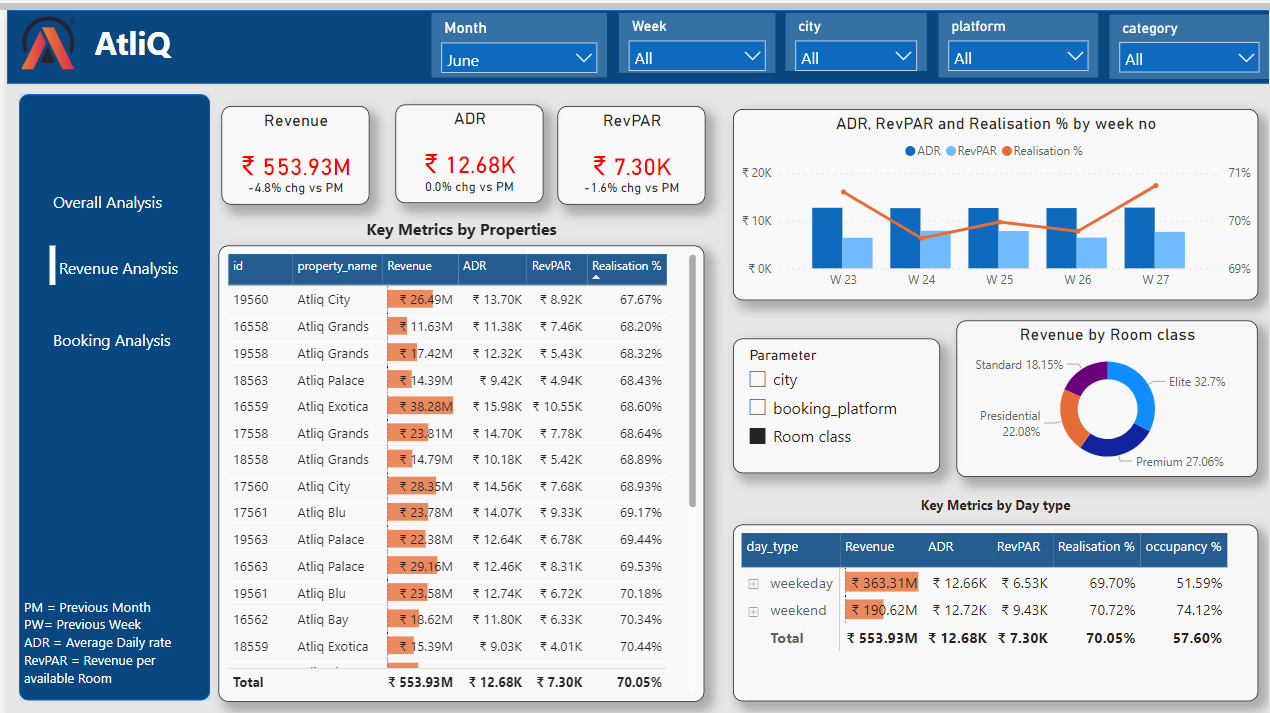

This screenshot's page, from the dashboard's own definition file:
{"tool":"powerbi","page":{"name":"Revenue","canvas":[1280,720],"ordinal":1},"visuals":[{"type":"shape","box":[0,0,1282.6,74.7],"z":0},{"type":"image","box":[0,0,84.7,65.5],"z":1000},{"type":"textbox","box":[84.1,6.5,123,58.2],"z":2000},{"type":"shape","box":[12.7,85.8,193.9,615.1],"z":3000},{"type":"shape","box":[7.7,174,77,40],"z":4000},{"type":"actionButton","box":[42.4,163.7,146.4,59.7],"z":5000},{"type":"shape","box":[8,239,77,40],"z":6000},{"type":"actionButton","box":[42.4,231.1,146.4,59.7],"z":7000},{"type":"shape","box":[7,314,77,40],"z":8000},{"type":"actionButton","box":[42.1,304,146.4,59.7],"z":9000},{"type":"lineClusteredColumnComboChart","fields":{"Category":["dim_date.week no"],"Y":["Key measures.ADR","Key measures.RevPAR"],"Y2":["Key measures.Realisation %"]},"box":[735.9,100.1,532.5,193.9],"z":10000},{"type":"donutChart","fields":{"Category":["dim_rooms.room_class"],"Y":["Key measures.Revenue"]},"box":[963.2,314.7,305.2,158.9],"z":11000},{"type":"tableEx","fields":{"Values":["dim_hotels.property_id","dim_hotels.property_name","Key measures.Revenue","Key measures.ADR","Key measures.RevPAR","Key measures.Realisation %"]},"box":[214.6,238.4,492.7,462.5],"z":12000},{"type":"card","title":"Revenue","fields":{"Values":["Key measures.Revenue"]},"box":[217.7,97.1,150,100],"z":13000},{"type":"card","fields":{"Values":["Key measures.revenue label"]},"box":[217.7,163.7,149.4,33.4],"z":14000},{"type":"card","title":"ADR","fields":{"Values":["Key measures.ADR"]},"box":[394.1,96.5,150,100],"z":15000},{"type":"card","fields":{"Values":["Key measures.ADR LABEL"]},"box":[394.1,163.1,149.4,33.4],"z":16000},{"type":"slicer","fields":{"Values":["dim_date.mmm-yy"]},"box":[430.7,3.7,178,65.2],"z":17000},{"type":"slicer","fields":{"Values":["dim_date.week no"]},"box":[619.9,3.7,158.9,60.4],"z":18000},{"type":"slicer","fields":{"Values":["dim_hotels.city"]},"box":[789.9,3.7,143,58.8],"z":19000},{"type":"slicer","fields":{"Values":["fact_bookings.booking_platform"]},"box":[944.1,3.7,162.1,65.2],"z":20000},{"type":"slicer","fields":{"Values":["dim_hotels.category"]},"box":[1117.4,4.8,162.1,65.2],"z":21000},{"type":"card","title":"RevPAR","fields":{"Values":["Key measures.RevPAR"]},"box":[557.7,97,150,100],"z":22000},{"type":"card","fields":{"Values":["Key measures.REVPAR LABEL"]},"box":[557.7,163.6,149.4,33.4],"z":23000},{"type":"pivotTable","fields":{"Rows":["dim_date.day_type","dim_hotels.category"],"Values":["Key measures.Revenue","Key measures.ADR","Key measures.RevPAR","Key measures.Realisation %","Key measures.occupancy %"]},"box":[735.9,521.3,532.5,179.6],"z":24000},{"type":"slicer","fields":{"Values":["Parameter.Parameter"]},"box":[735.9,333.8,209.8,136.7],"z":25000},{"type":"textbox","box":[214.6,205,492.7,41.3],"z":26000},{"type":"textbox","box":[735.9,486.4,532.5,35],"z":27000},{"type":"textbox","box":[12.7,589.7,193.9,130.3],"z":28000}]}

Visuals, with their boxes in screenshot pixels (x1, y1, x2, y2), scaled from the page's 1280x720 canvas onto the 1270x713 screenshot:
shape: [0,0,1269,74]
image: [0,0,84,65]
textbox: [83,6,205,64]
shape: [13,85,205,694]
shape: [8,172,84,212]
actionButton: [42,162,187,221]
shape: [8,237,84,276]
actionButton: [42,229,187,288]
shape: [7,311,83,351]
actionButton: [42,301,187,360]
lineClusteredColumnComboChart - dim_date.week no x Key measures.ADR: [730,99,1258,291]
donutChart - dim_rooms.room_class x Key measures.Revenue: [956,312,1258,469]
tableEx - dim_hotels.property_id x dim_hotels.property_name: [213,236,702,694]
"Revenue" card: [216,96,365,195]
card - Key measures.revenue label: [216,162,364,195]
"ADR" card: [391,96,540,195]
card - Key measures.ADR LABEL: [391,162,539,195]
slicer - dim_date.mmm-yy: [427,4,604,68]
slicer - dim_date.week no: [615,4,773,63]
slicer - dim_hotels.city: [784,4,926,62]
slicer - fact_bookings.booking_platform: [937,4,1098,68]
slicer - dim_hotels.category: [1109,5,1269,69]
"RevPAR" card: [553,96,702,195]
card - Key measures.REVPAR LABEL: [553,162,702,195]
pivotTable - dim_date.day_type x dim_hotels.category: [730,516,1258,694]
slicer - Parameter.Parameter: [730,331,938,466]
textbox: [213,203,702,244]
textbox: [730,482,1258,516]
textbox: [13,584,205,712]
